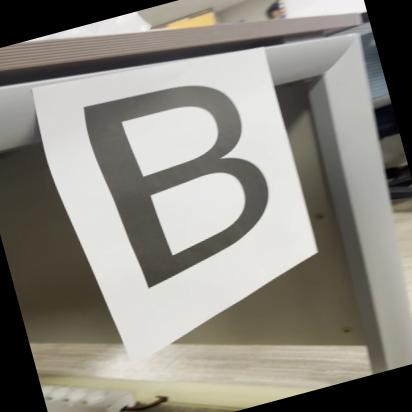seat: (43, 48, 300, 311)
